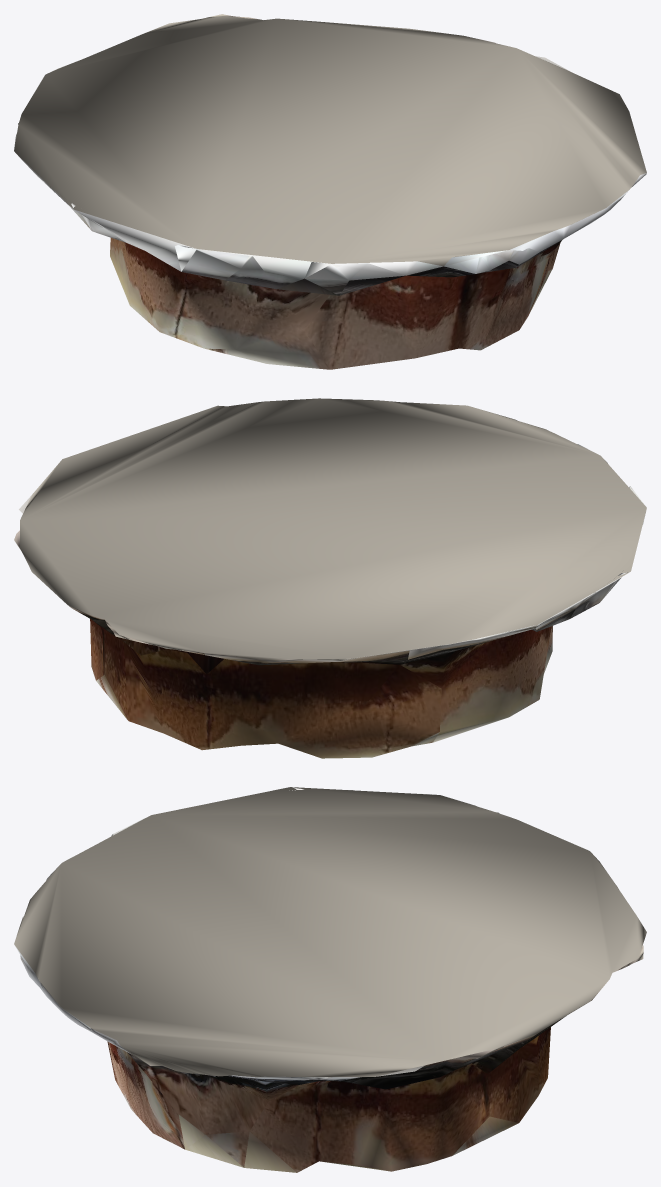
Rendered from cake_518.obj.
The picture shows the model from 3 angles, top to bottom: view 1: azimuth 30°, elevation 25°; view 2: azimuth 150°, elevation 25°; view 3: azimuth 270°, elevation 25°; orthographic projection. The views are drawn at different scales.
Size of the model in its own units: 0.1784 by 0.0517 by 0.178.
Materials: 1 (1 with a texture image).
